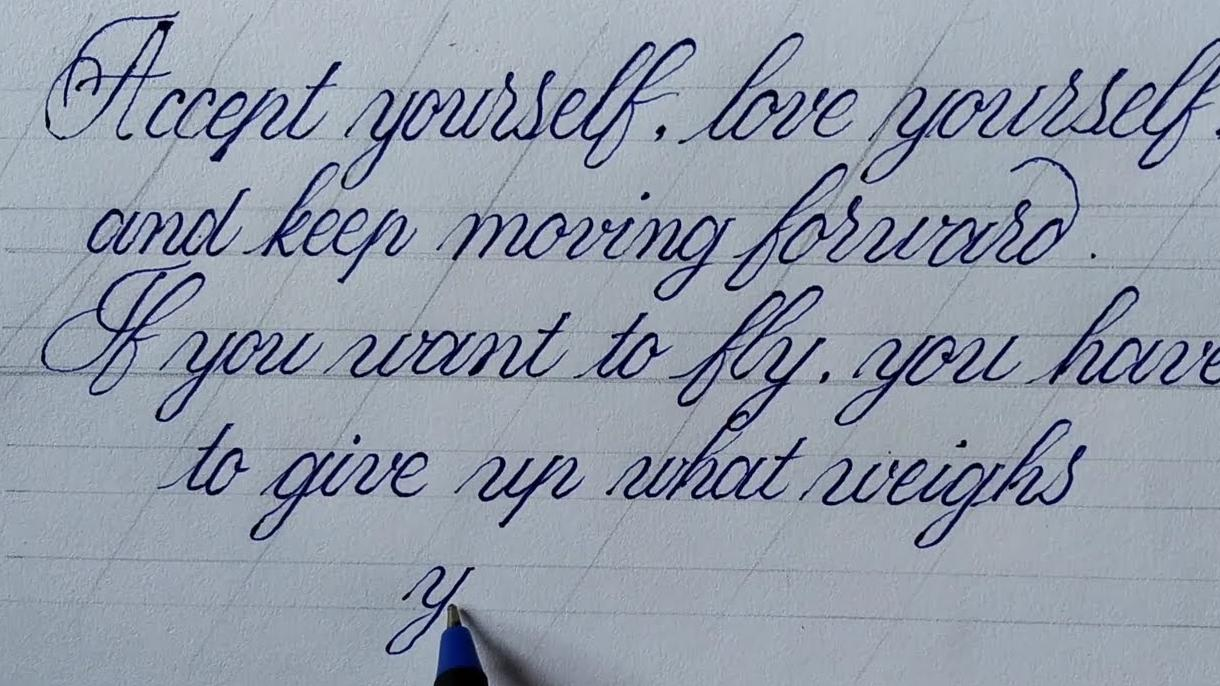text: (41, 6, 1220, 194), (36, 259, 1220, 436), (84, 152, 1097, 309), (152, 410, 1091, 548), (381, 559, 479, 659)
